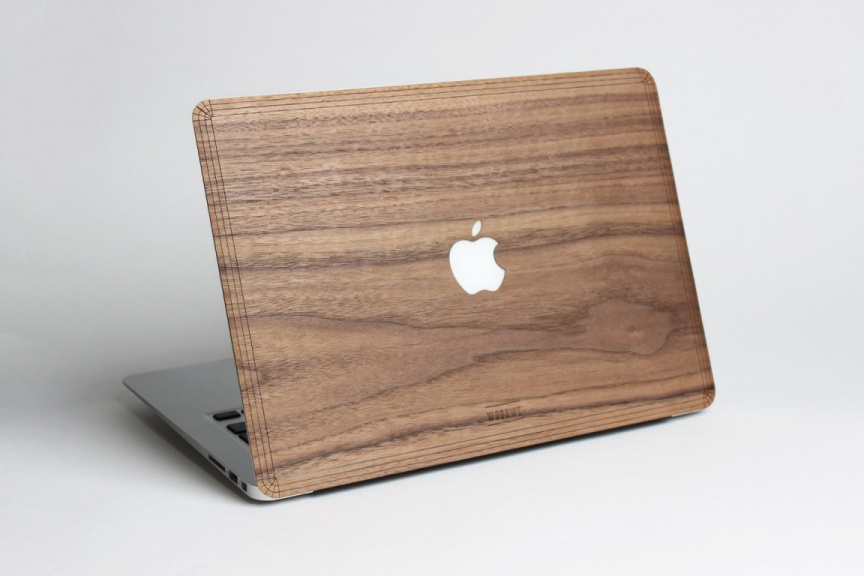apple: (434, 215, 528, 303)
